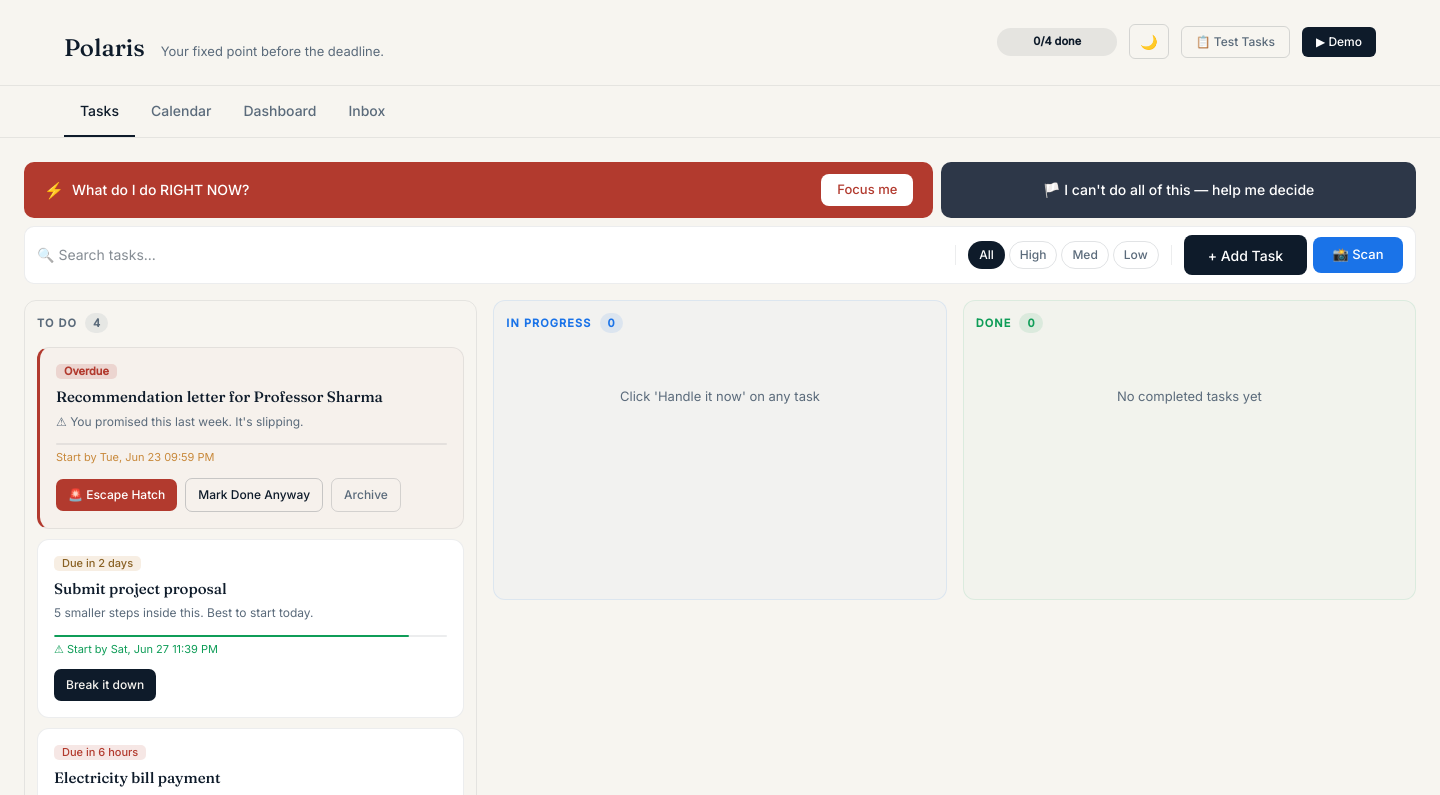
New Features: Countdown, Calendar, and Dashboard › Calendar tab renders monthly view and allows month navigation
Click the button "Calendar": coordinates (181, 112) [135, 86, 227, 137]
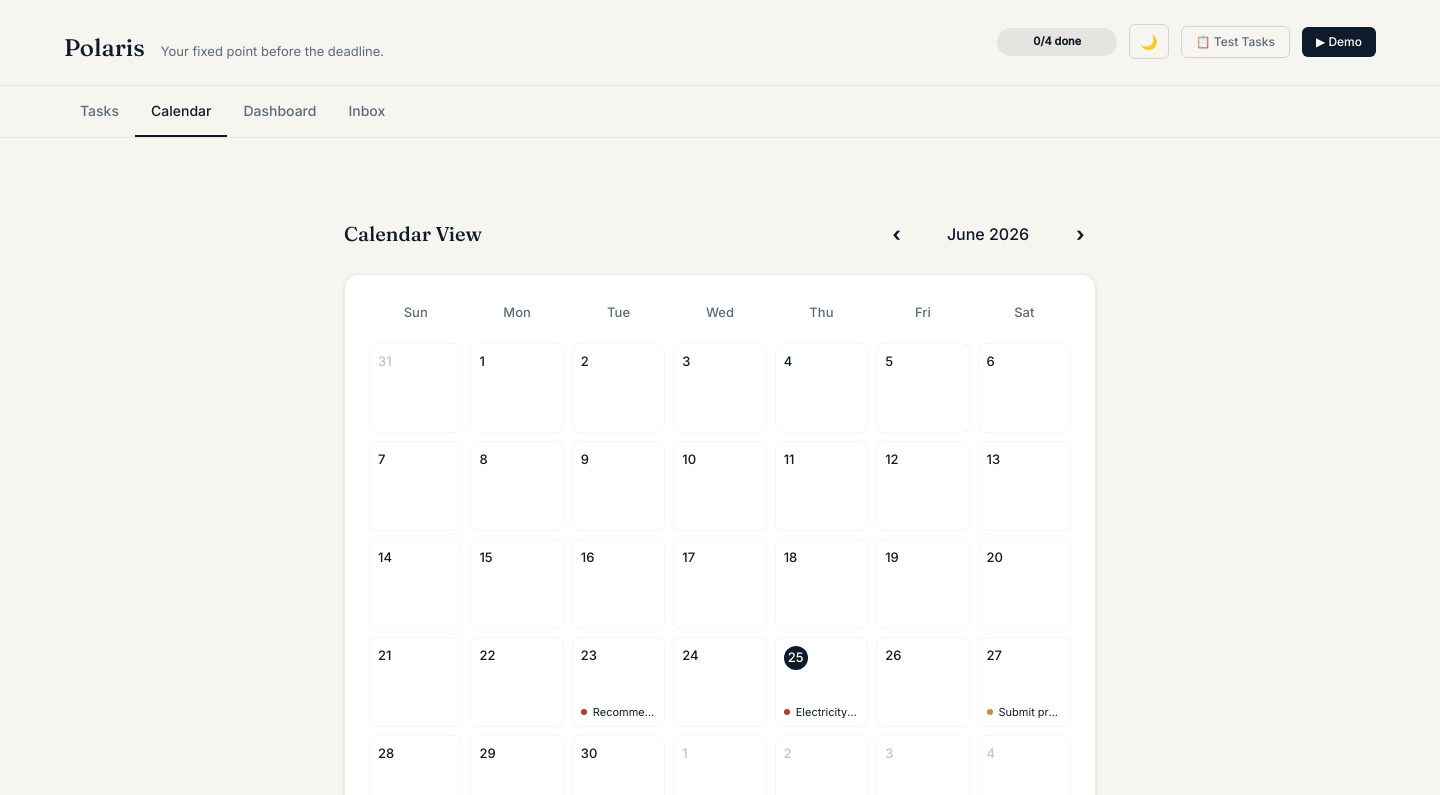
Now the heading "Calendar View" is shown, box [344, 219, 482, 249]
Now the text "June 2026" is shown, box [947, 224, 1029, 244]
Click the button "›": coordinates (1080, 234) [1064, 218, 1096, 250]
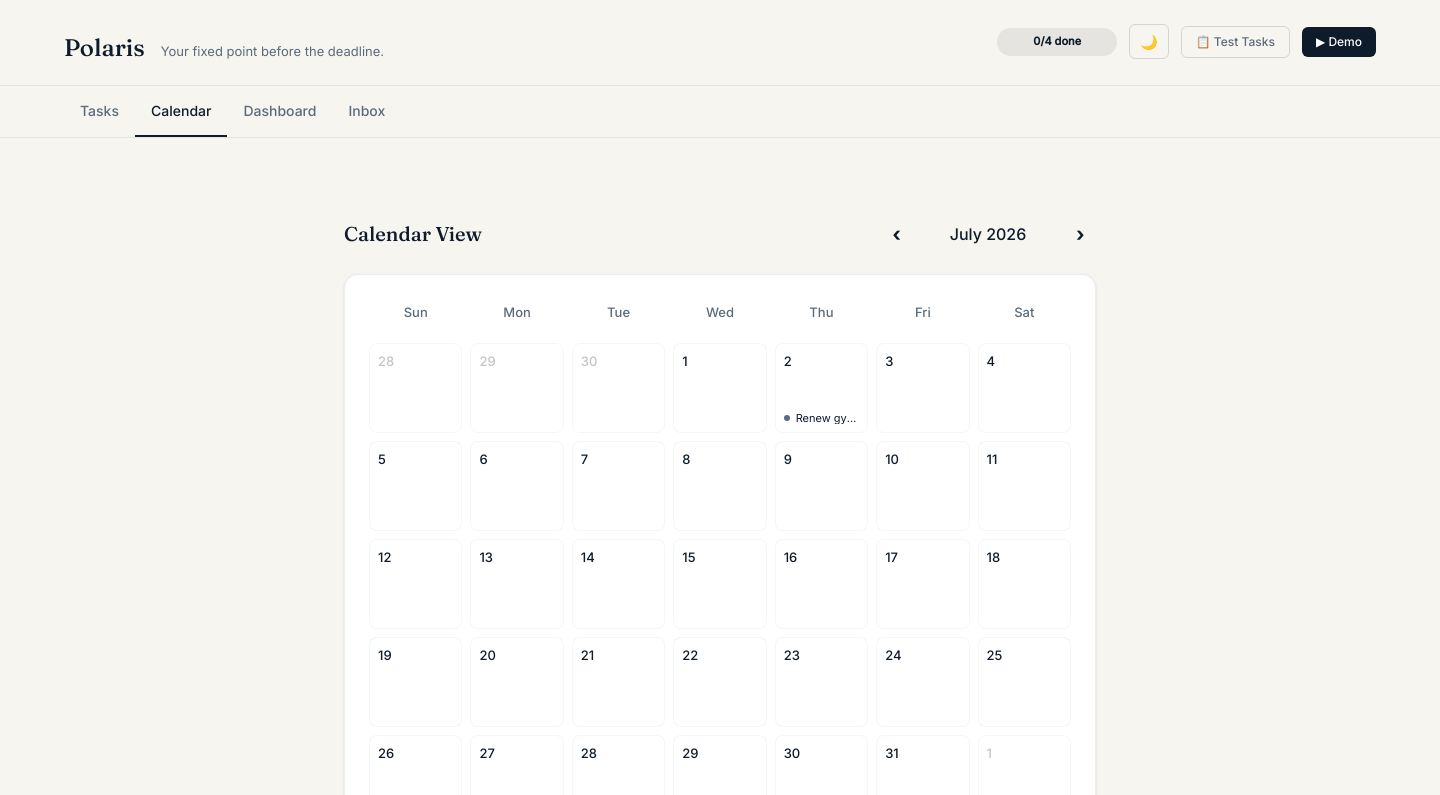
Now the text "July 2026" is shown, box [950, 224, 1026, 244]
Click the button "‹": coordinates (896, 234) [880, 218, 912, 250]
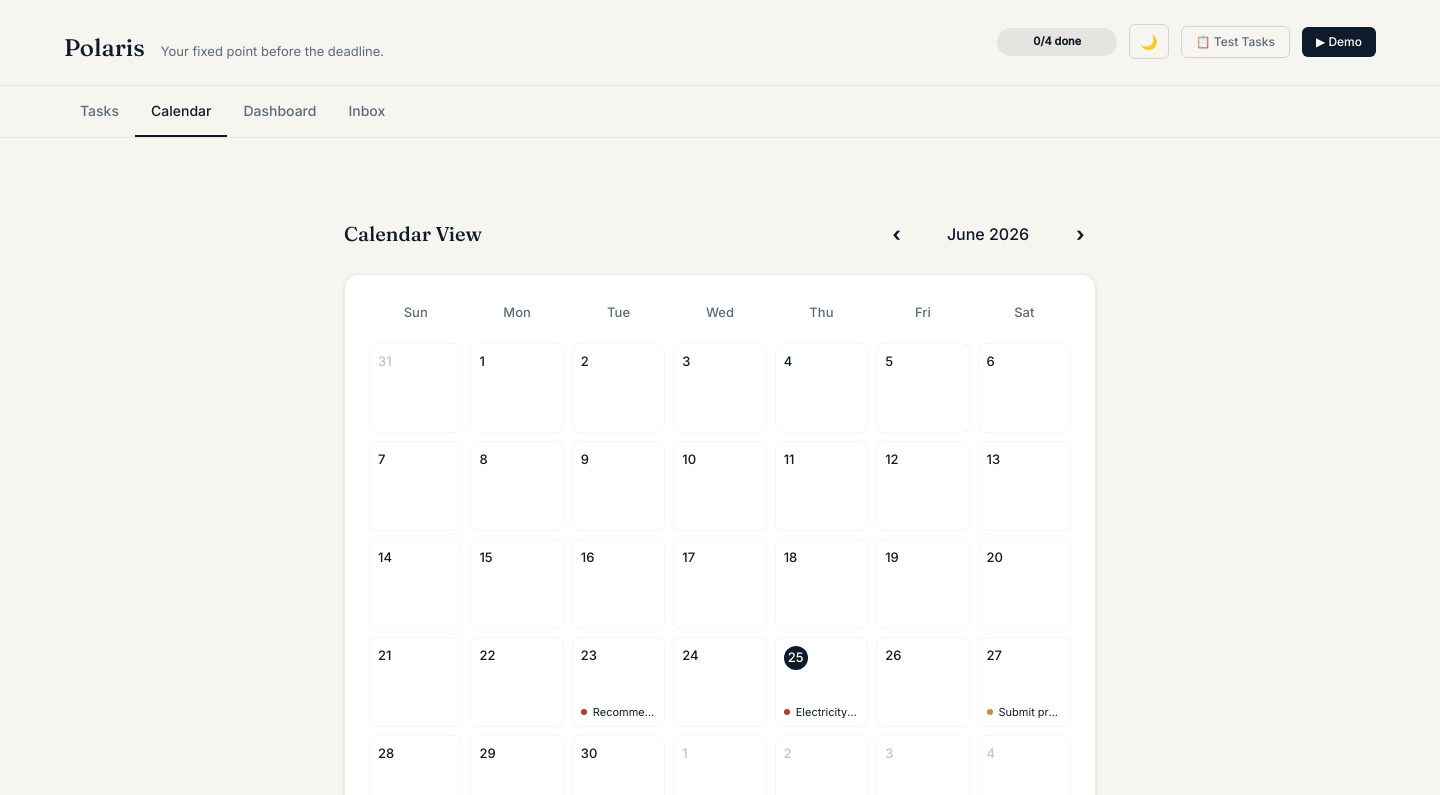
Now the text "June 2026" is shown, box [947, 224, 1029, 244]
